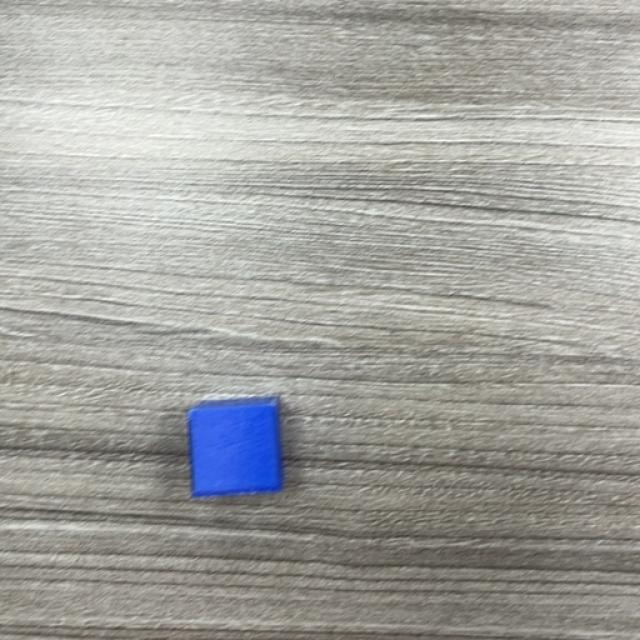Azul: (188, 396, 284, 501)
